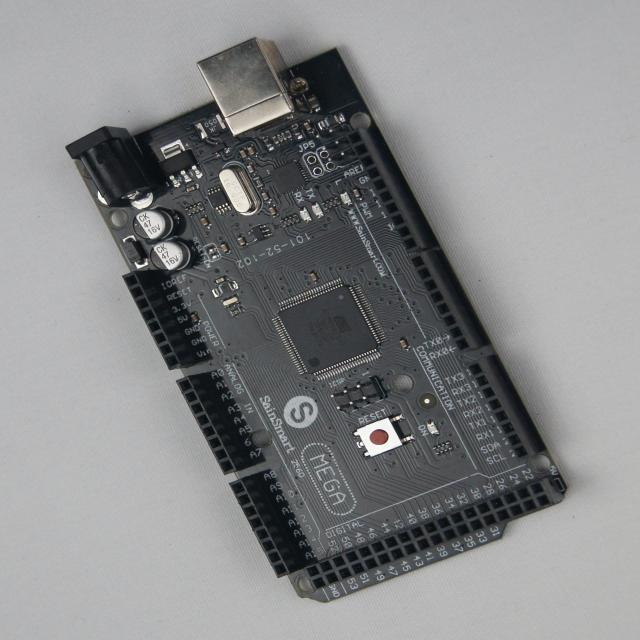Arduino Mega 2560 -Black-: (68, 40, 567, 602)
